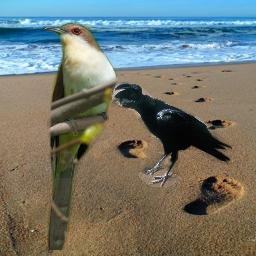Crow: (111, 82, 232, 187)
Cuckoo: (42, 22, 119, 250)
